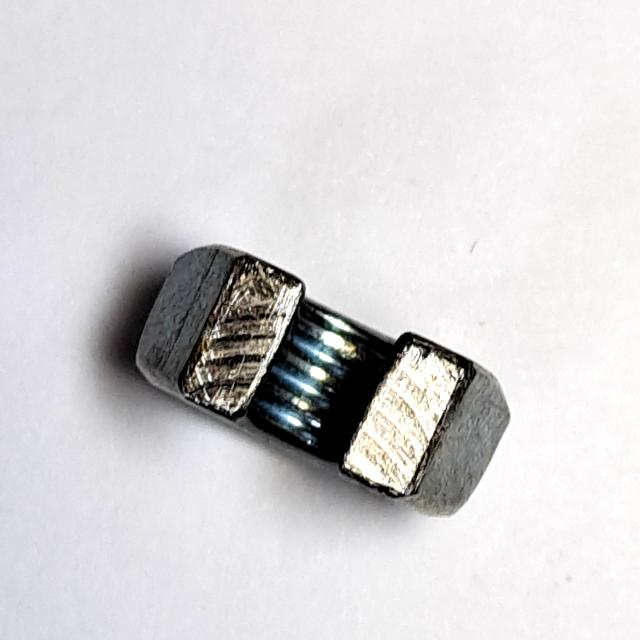Side-Fracture: (122, 231, 526, 541)
